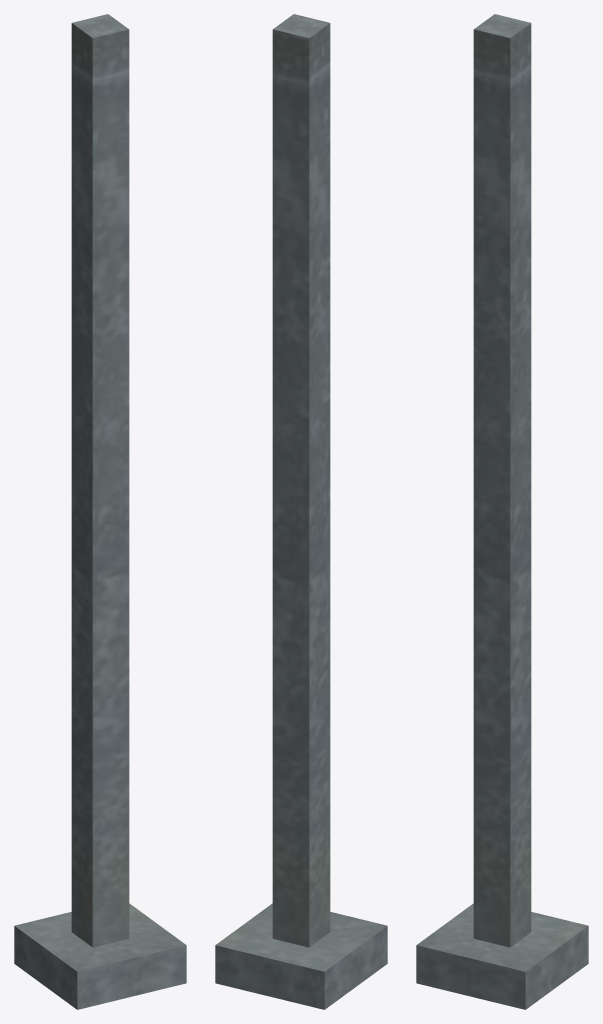
File: eSK_fence01_top_fence_end.FBX
3 renders of one model, left to right at view 1: azimuth 30°, elevation 25°; view 2: azimuth 150°, elevation 25°; view 3: azimuth 330°, elevation 25°, orthographic.
Parts seen in each view (by area): view 1: Object1; view 2: Object1; view 3: Object1.
Boxes of the visible parts, x1,y1,x2,y2 form: Object1: (14, 14, 186, 1009); Object1: (215, 14, 387, 1009); Object1: (416, 14, 588, 1009).
Size of the model in its own units: 0.15 by 1.24 by 0.15.
1 material, 1 textured.
